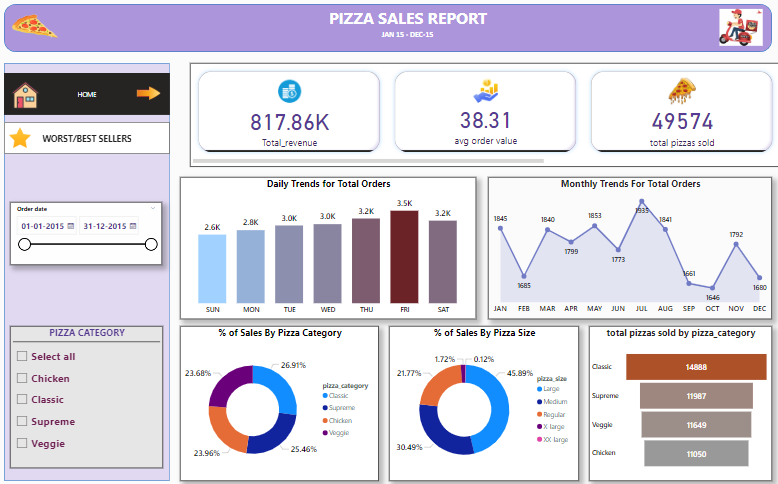

What the dashboard file says about the page in this screenshot:
{"tool":"powerbi","page":{"name":"HOME","canvas":[1600,1000],"ordinal":0},"visuals":[{"type":"cardVisual","fields":{"Data":["pizza_sales.Total_revenue","pizza_sales.avg order value","pizza_sales.total pizzas sold","pizza_sales.total orders","pizza_sales.avg pizzas per order"]},"box":[376,134.1,1203.3,211.4],"z":0},{"type":"shape","box":[18.3,14.2,1561,97.6],"z":1000},{"type":"textbox","box":[638.2,14.2,402.4,54.9],"z":2000},{"type":"textbox","box":[725.6,61,225.6,48.8],"z":3000},{"type":"columnChart","title":"Daily Trends for Total Orders","fields":{"Category":["pizza_sales.order day"],"Y":["pizza_sales.total orders"]},"box":[376,365.9,601.6,288.6],"z":4000},{"type":"areaChart","title":"Monthly Trends For Total Orders","fields":{"Category":["pizza_sales.order Month"],"Y":["pizza_sales.total orders"]},"box":[1002,365.9,577.2,288.6],"z":5000},{"type":"donutChart","title":"% of Sales By Pizza Category","fields":{"Category":["pizza_sales.pizza_category"],"Y":["pizza_sales.Total_revenue"]},"box":[376,668.7,404.5,315],"z":6000},{"type":"donutChart","title":"% of Sales By Pizza Size ","fields":{"Category":["pizza_sales.pizza_size"],"Y":["pizza_sales.Total_revenue"]},"box":[800.8,668.7,386.2,315],"z":7000},{"type":"funnel","fields":{"Category":["pizza_sales.pizza_category"],"Y":["pizza_sales.total pizzas sold"]},"box":[1207.3,668.7,372,315],"z":8000},{"type":"shape","box":[18.3,134.1,337.4,849.6],"z":9000},{"type":"slicer","fields":{"Values":["pizza_sales.order_date"]},"box":[30.5,416.7,308.9,128],"z":10000},{"type":"slicer","title":"PIZZA CATEGORY","fields":{"Values":["pizza_sales.pizza_category"]},"box":[30.5,668.7,311,288.6],"z":11000},{"type":"pageNavigator","box":[18.3,154.5,337.4,85.4],"z":12000},{"type":"pageNavigator","box":[18.3,254.1,337.4,65],"z":13000},{"type":"image","box":[282.5,174.8,58.9,42.7],"z":14000},{"type":"image","box":[18.3,158.5,87.4,81.3],"z":15000},{"type":"image","box":[18.3,258.1,65,54.9],"z":16000},{"type":"image","box":[18.3,0,126,111.8],"z":17000},{"type":"image","box":[1467.5,14.2,97.6,95.5],"z":18000}]}

Visuals, with their boxes in screenshot pixels (x1, y1, x2, y2), scaled from the page's 1600x1000 canvas onto the 778x484 screenshot:
cardVisual - pizza_sales.Total_revenue x pizza_sales.avg order value: [183, 65, 768, 167]
shape: [9, 7, 768, 54]
textbox: [310, 7, 506, 33]
textbox: [353, 30, 463, 53]
"Daily Trends for Total Orders" columnChart: [183, 177, 475, 317]
"Monthly Trends For Total Orders" areaChart: [487, 177, 768, 317]
"% of Sales By Pizza Category" donutChart: [183, 324, 380, 476]
"% of Sales By Pizza Size " donutChart: [389, 324, 577, 476]
funnel - pizza_sales.pizza_category x pizza_sales.total pizzas sold: [587, 324, 768, 476]
shape: [9, 65, 173, 476]
slicer - pizza_sales.order_date: [15, 202, 165, 264]
"PIZZA CATEGORY" slicer: [15, 324, 166, 463]
pageNavigator: [9, 75, 173, 116]
pageNavigator: [9, 123, 173, 154]
image: [137, 85, 166, 105]
image: [9, 77, 51, 116]
image: [9, 125, 41, 151]
image: [9, 0, 70, 54]
image: [714, 7, 761, 53]
